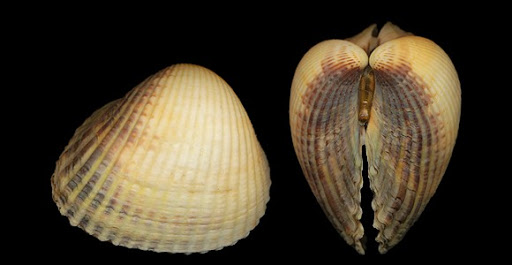cockle: (43, 58, 277, 256), (288, 22, 463, 256)
